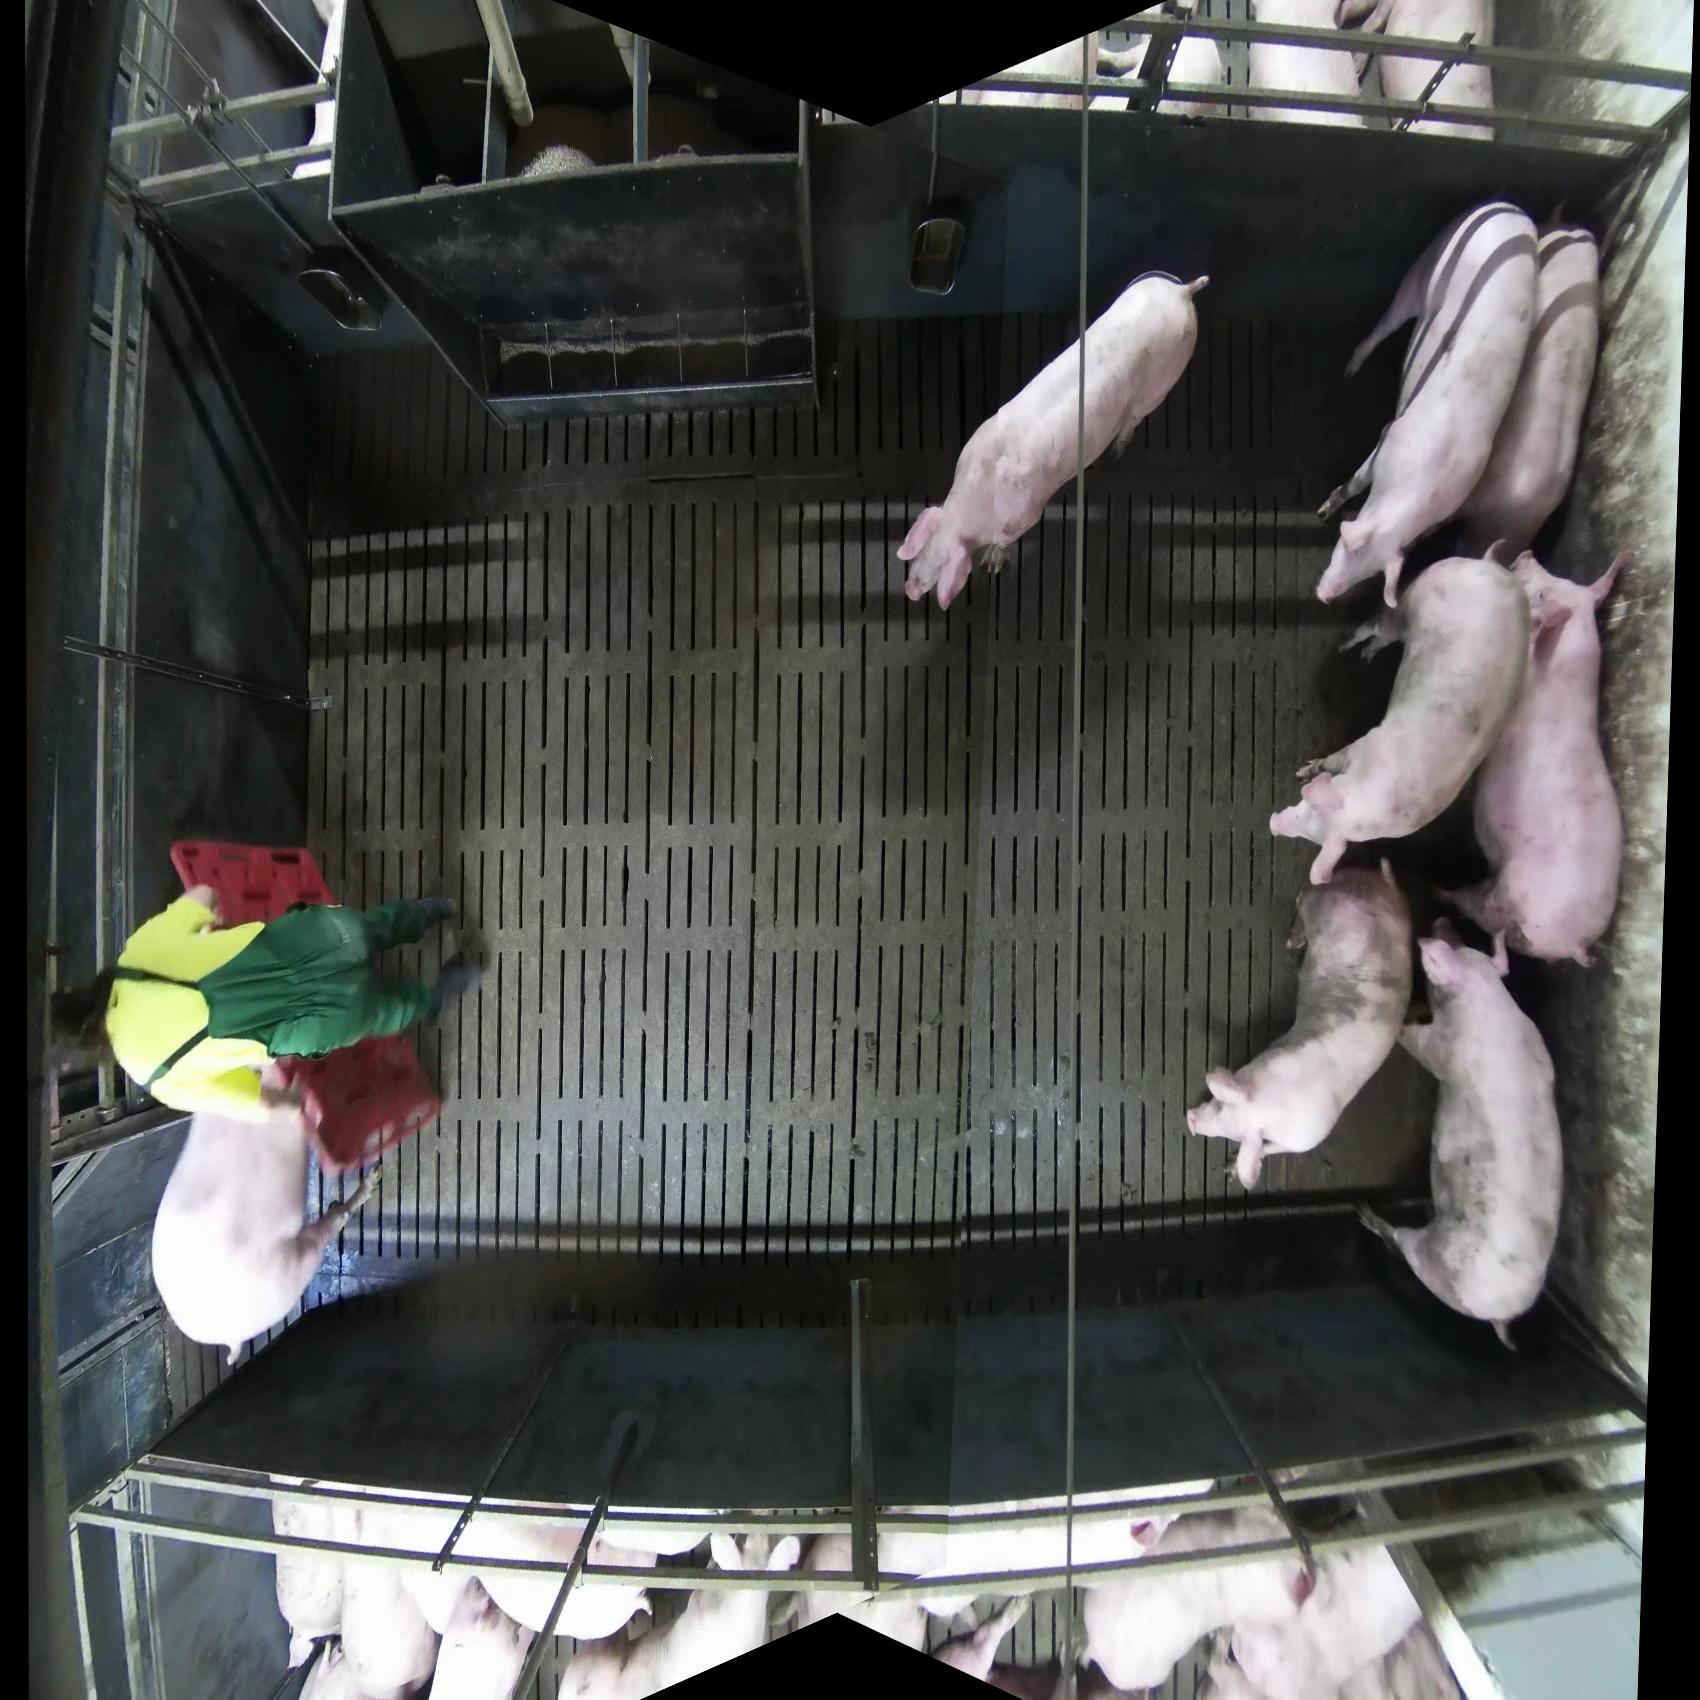pig: (896, 268, 1211, 613), (1314, 198, 1541, 611), (1267, 554, 1532, 887), (1433, 547, 1636, 976), (1364, 920, 1566, 1353), (1184, 857, 1416, 1192), (150, 1078, 382, 1362), (1447, 220, 1606, 566), (1204, 1499, 1464, 1700), (1081, 1503, 1316, 1693), (557, 1530, 806, 1699), (785, 1526, 1035, 1686), (1176, 1, 1376, 130), (1335, 1, 1498, 142), (426, 1575, 541, 1699), (927, 1592, 1035, 1682)
worker: (96, 878, 487, 1362)
